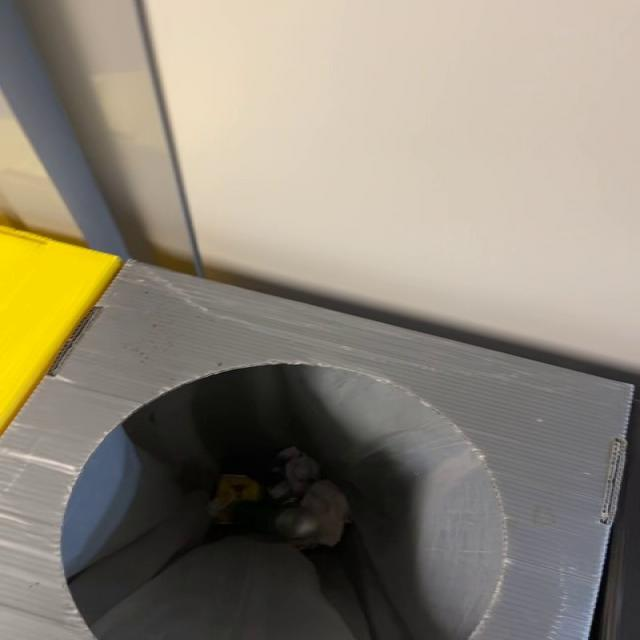bin: (1, 263, 632, 640)
